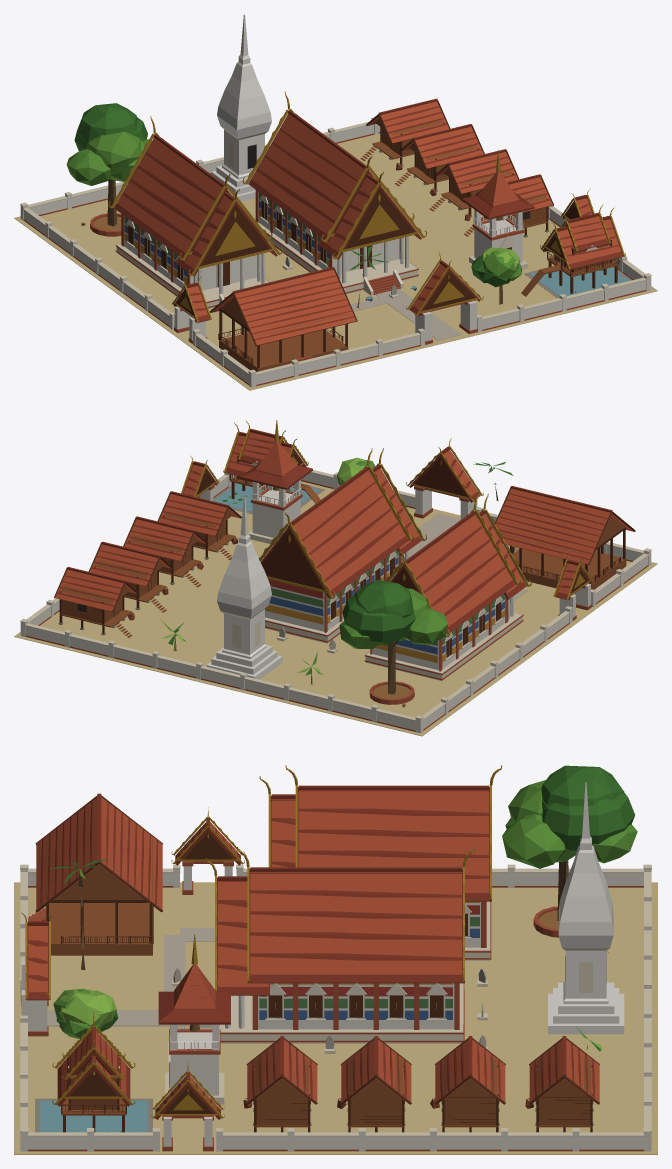
File: temple_3.glb
The picture shows the model from 3 angles, top to bottom: view 1: azimuth 30°, elevation 25°; view 2: azimuth 150°, elevation 25°; view 3: azimuth 270°, elevation 25°; orthographic projection. The views are drawn at different scales.
Parts seen in each view (by area): view 1: body; view 2: body; view 3: body.
Boxes of the visible parts, bbox=[...] form: body: bbox=[14, 14, 657, 390]; body: bbox=[14, 420, 657, 736]; body: bbox=[14, 765, 657, 1154].
Size of the model in its own units: 47.9 by 19.63 by 47.9.
